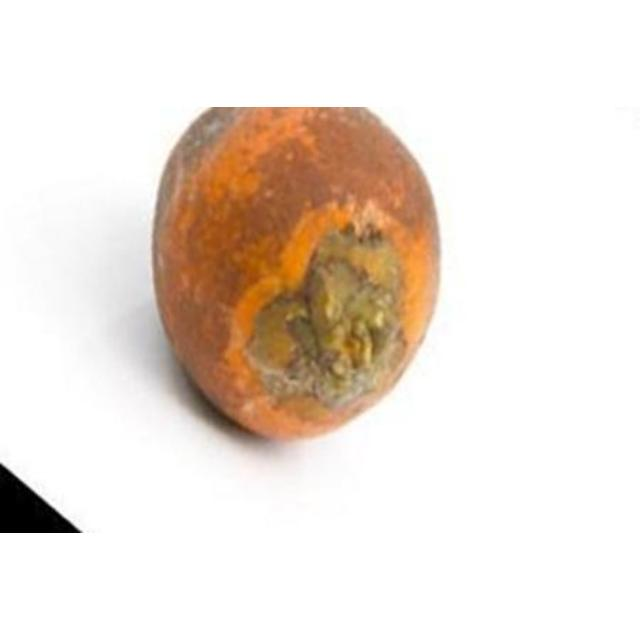good: (151, 107, 442, 444)
